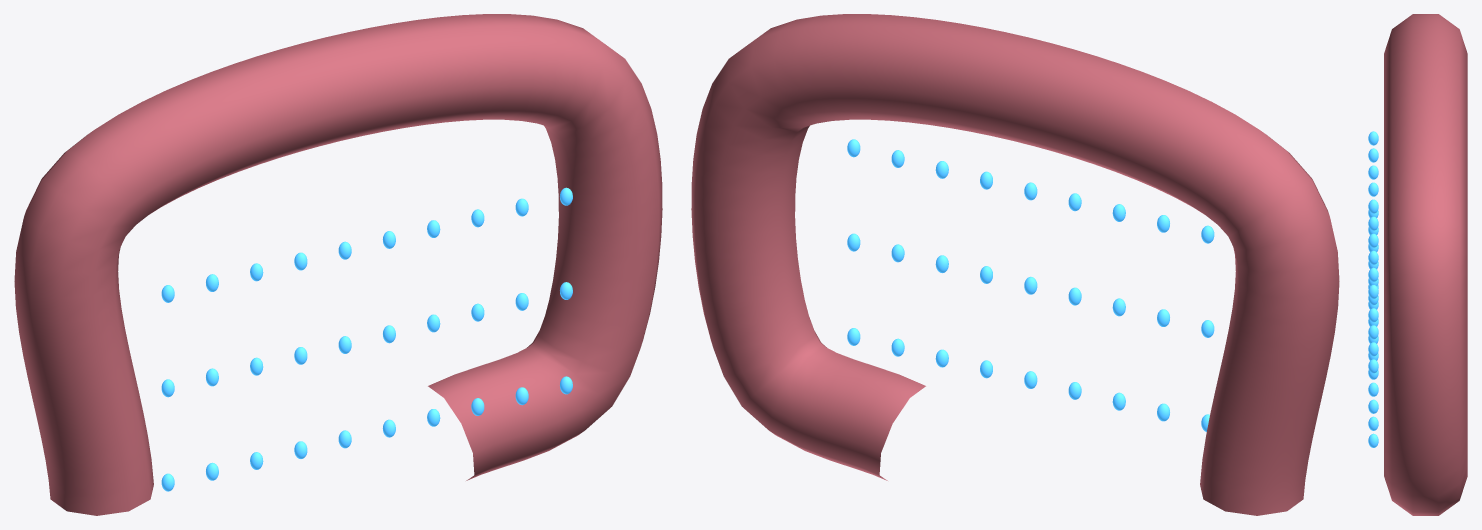
Rendered from large-intestine-water-world.glb.
3 views of the same model, side by side, from view 1: azimuth 30°, elevation 25°; view 2: azimuth 150°, elevation 25°; view 3: azimuth 270°, elevation 25° (orthographic). The views are drawn at different scales.
Parts seen in each view (by area): view 1: large-intestine-colon; view 2: large-intestine-colon; view 3: large-intestine-colon.
Part boxes in pixels (box(x1,y1,x2,y2)): large-intestine-colon: box(14, 14, 662, 515); large-intestine-colon: box(691, 14, 1339, 515); large-intestine-colon: box(1384, 14, 1467, 515).
Size of the model in its own units: 3.85 by 2.7 by 0.665.
